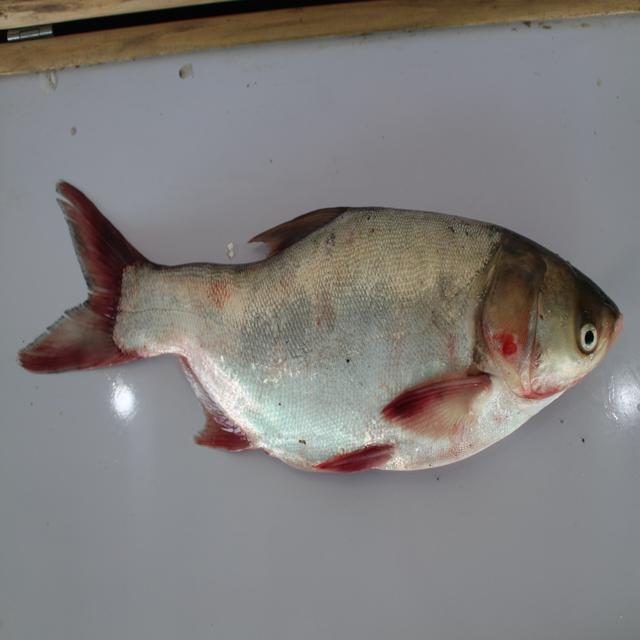SilverCarp: (17, 164, 629, 480)
